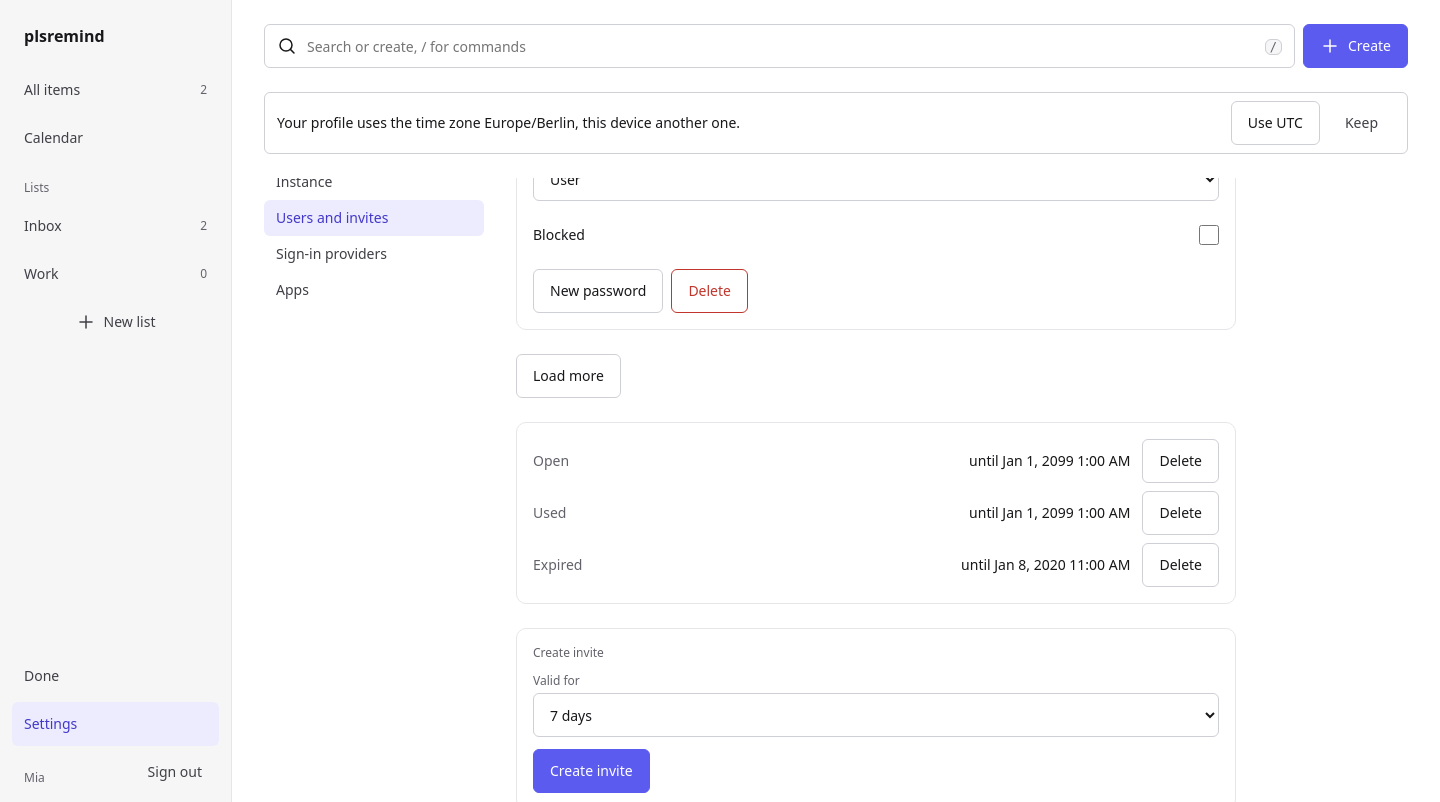
Scenario: an invite is created, its code shown once, and its state listed
(page scrolled)
Expected: the number of list items is 3, [533, 439, 1219, 483]; [533, 491, 1219, 535]; [533, 543, 1219, 587]
Select "30 days" in the dropdown labelled "Valid for": (876, 715) [533, 693, 1219, 737]
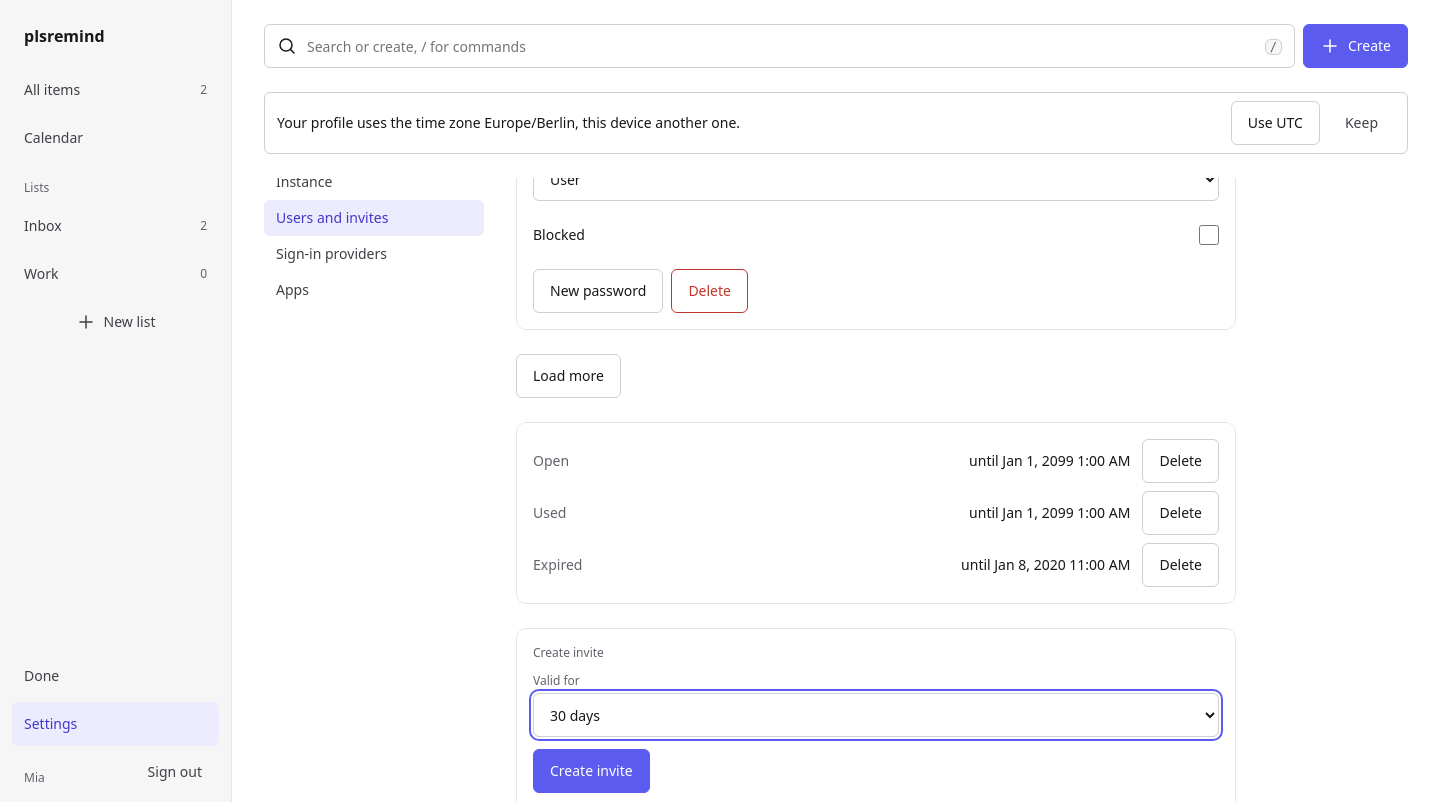
Click the button "Create invite": (591, 771) [533, 749, 650, 793]
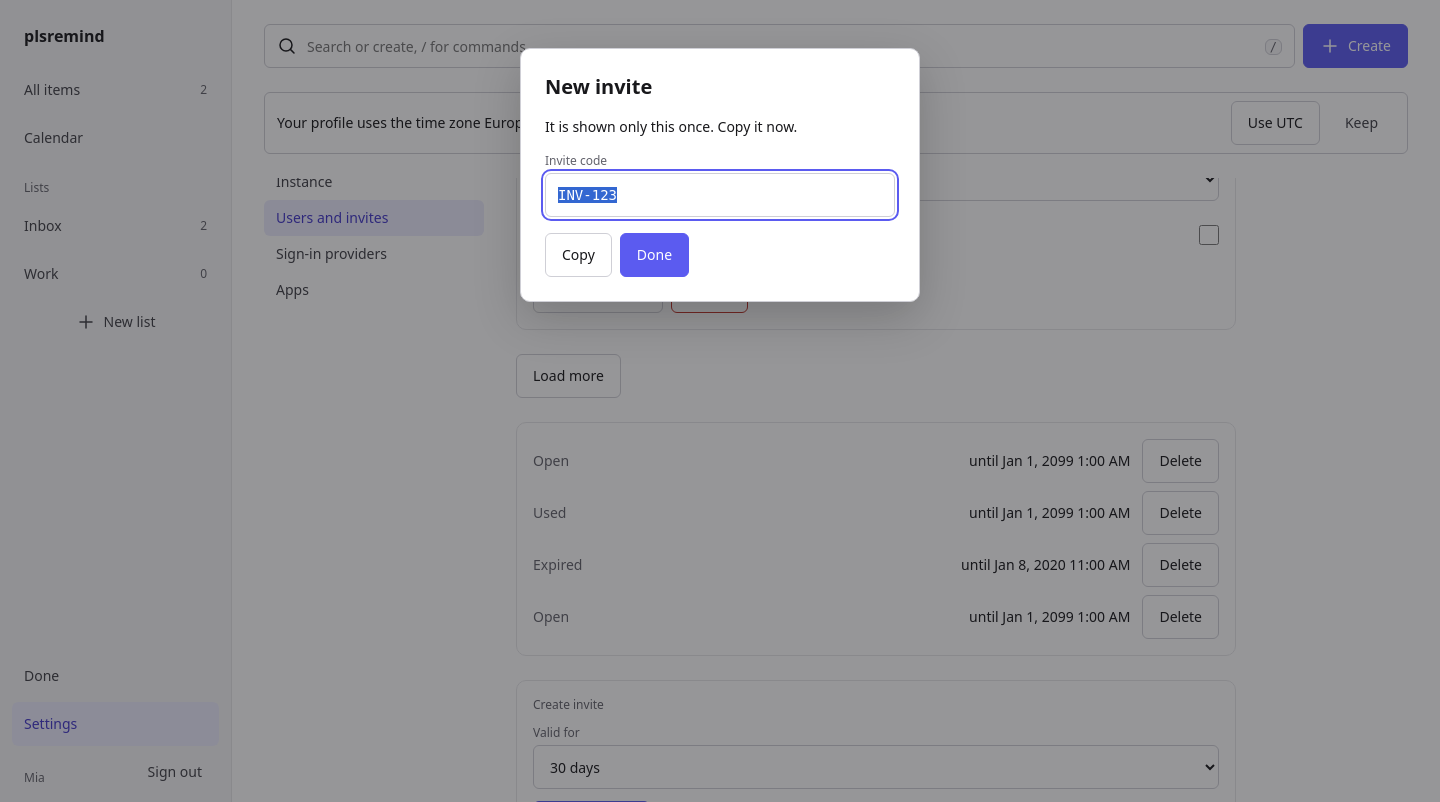
Expected: the field labelled "Invite code" holds "INV-123", [545, 173, 895, 217]
Click the button "Done": (654, 255) [620, 233, 689, 277]
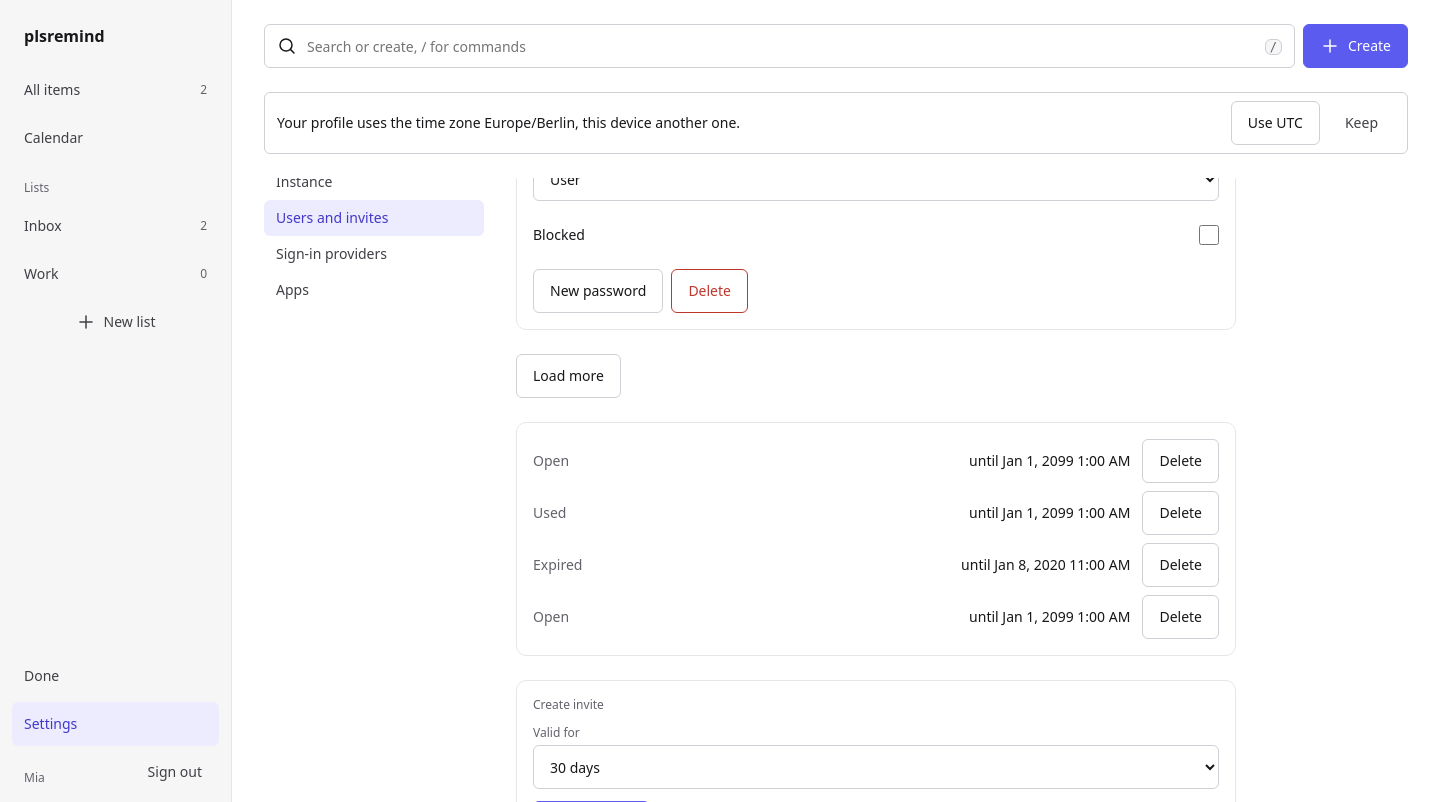
Expected: the text "INV-123" is not shown
Expected: the number of list items is 4, [533, 439, 1219, 483]; [533, 491, 1219, 535]; [533, 543, 1219, 587]; [533, 595, 1219, 639]
Click the 2nd button "Delete": (1181, 461) [1142, 439, 1219, 483]
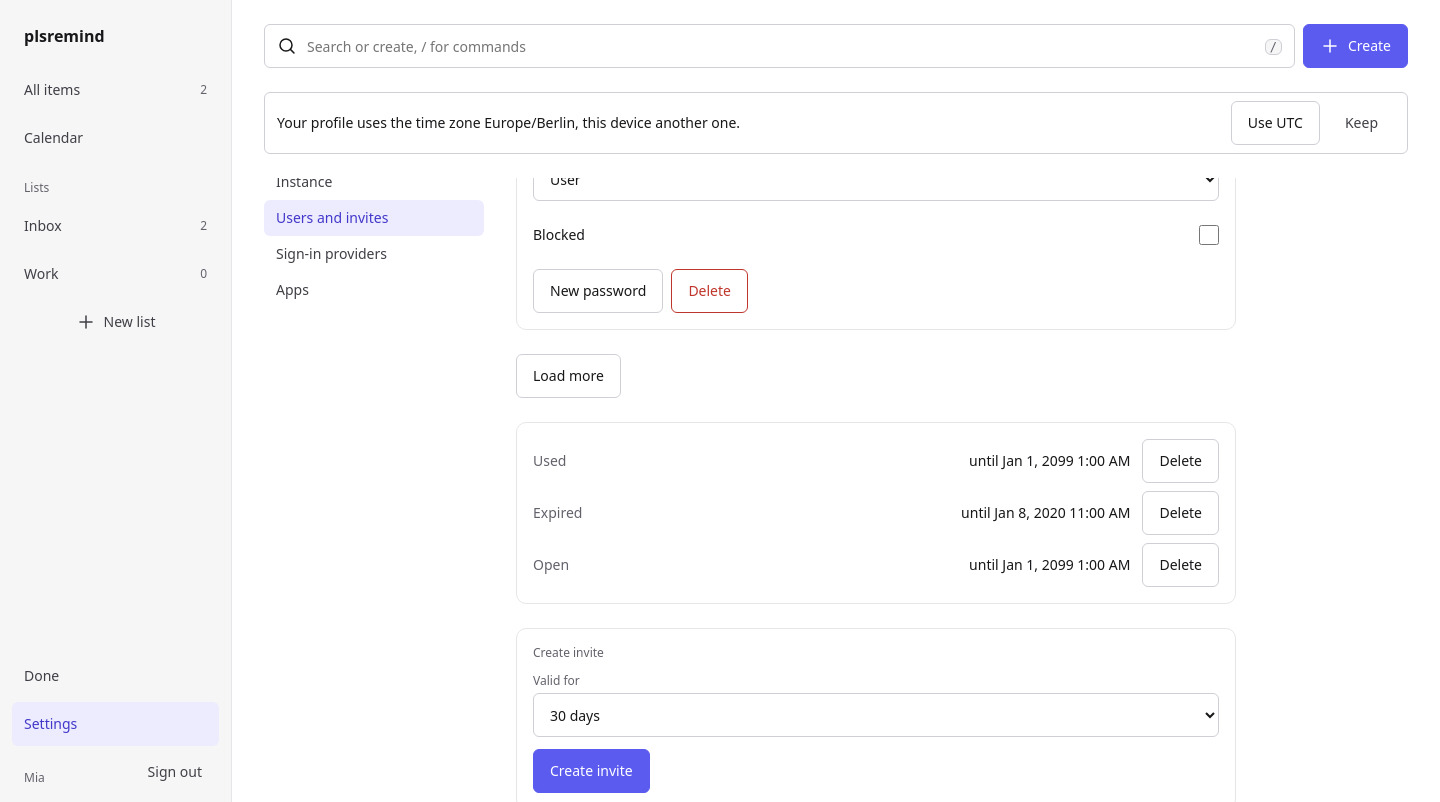
Expected: the number of list items is 3, [533, 439, 1219, 483]; [533, 491, 1219, 535]; [533, 543, 1219, 587]
